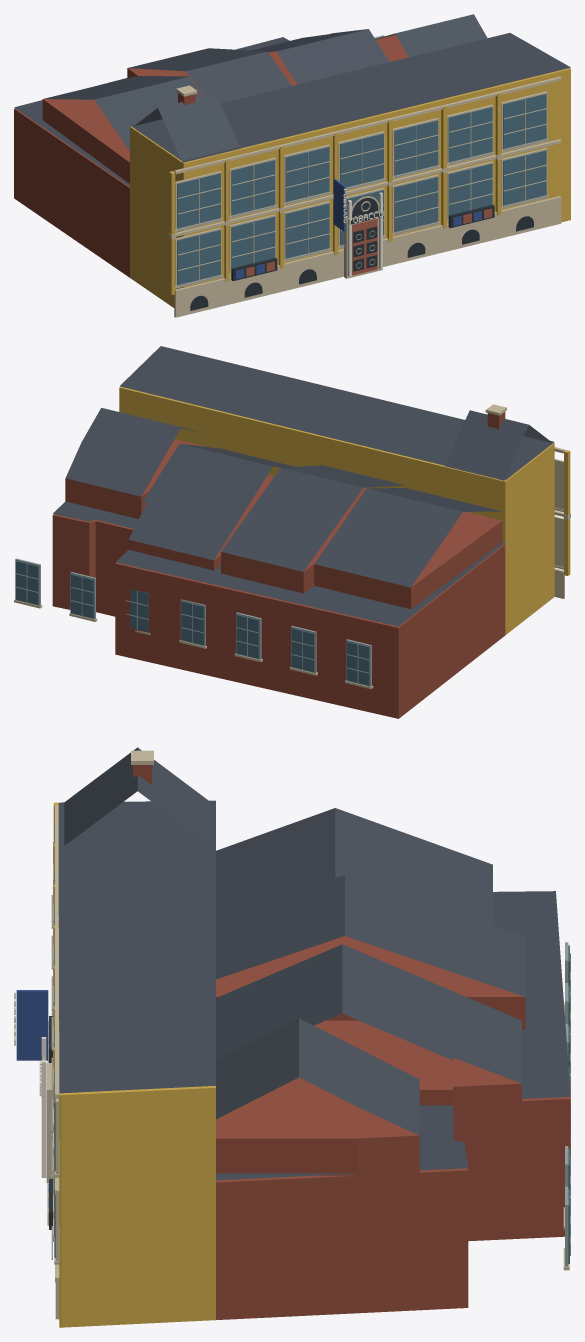
File: tobacco-theater.glb
3 views of the same model, one above another, from view 1: azimuth 30°, elevation 25°; view 2: azimuth 150°, elevation 25°; view 3: azimuth 270°, elevation 25° (orthographic). The views are drawn at different scales.
Parts seen in each view (by area): view 1: tobacco-theater; view 2: tobacco-theater; view 3: tobacco-theater.
Boxes of the visible parts, x1,y1,x2,y2 form: tobacco-theater: [14, 14, 570, 317]; tobacco-theater: [14, 346, 570, 718]; tobacco-theater: [14, 747, 570, 1327].
Bounding box in the file's own units: 29.58 × 13.91 × 23.11.
